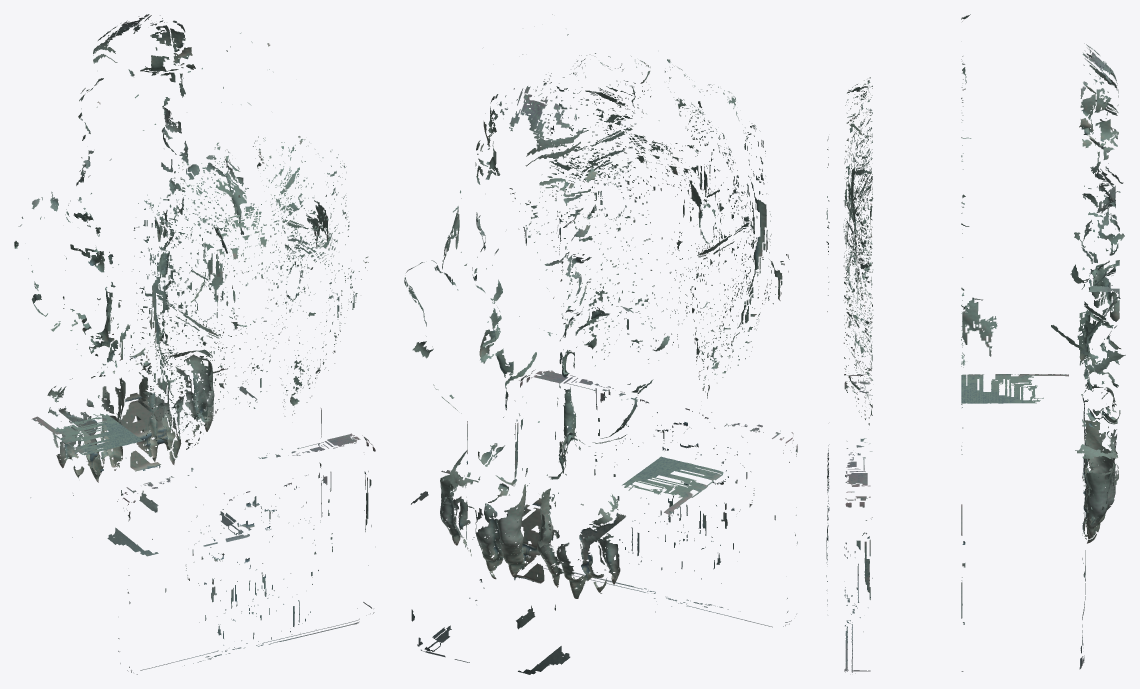
Rendered from cthulhu17_material_0.018_lev1.glb.
3 renders of one model, left to right at view 1: azimuth 30°, elevation 25°; view 2: azimuth 150°, elevation 25°; view 3: azimuth 270°, elevation 25°, orthographic. The views are drawn at different scales.
Visible parts, largest first — view 1: cthulhu17_material_0.018_lev1; view 2: cthulhu17_material_0.018_lev1; view 3: cthulhu17_material_0.018_lev1.
Part boxes in pixels (x1,y1,x2,y2): cthulhu17_material_0.018_lev1: (14, 14, 375, 674); cthulhu17_material_0.018_lev1: (404, 14, 797, 674); cthulhu17_material_0.018_lev1: (826, 14, 1125, 673).
Bounding box in the file's own units: 2.64 × 5.34 × 2.48.
